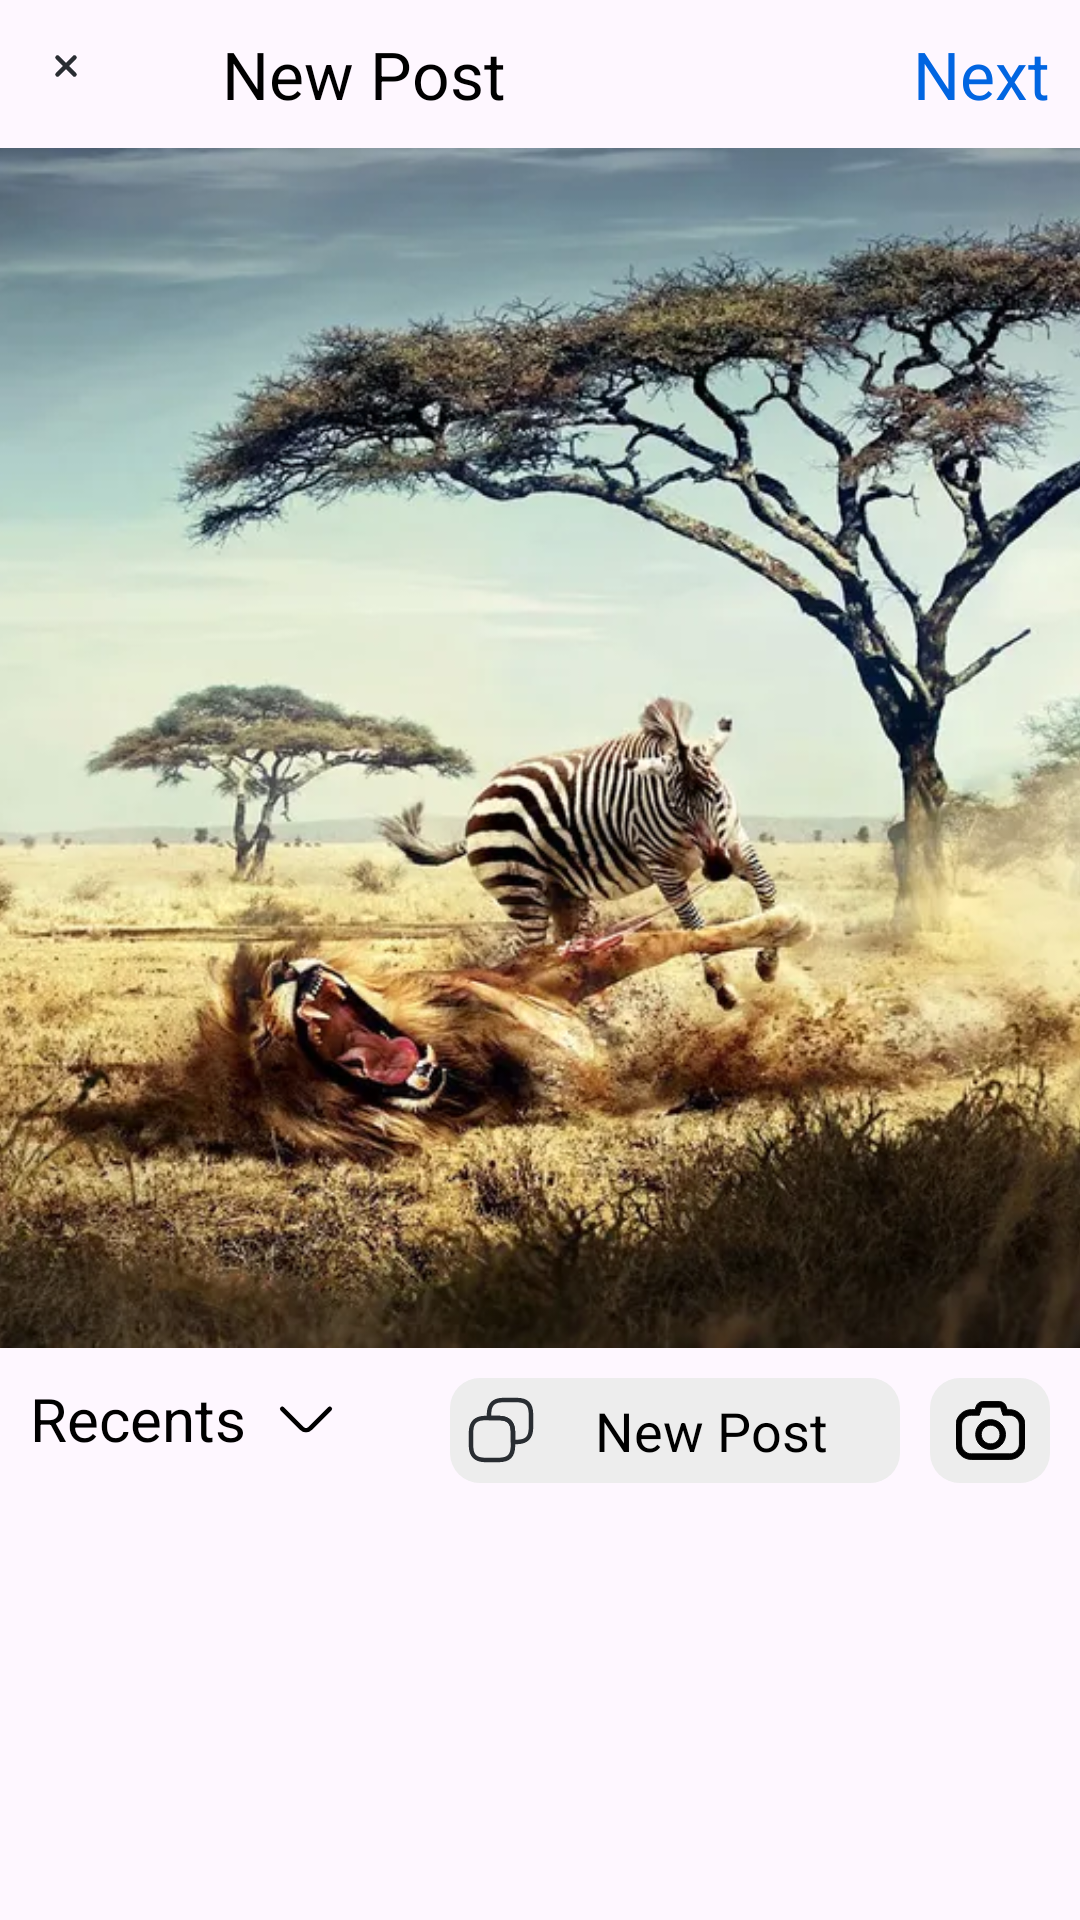

Screen size 1080*1920. Icon name, then its box in pixels as (x1, y1, x2, y2):
camera: (930, 1378, 1050, 1483)
